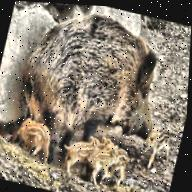boar: (4, 3, 181, 174), (2, 111, 57, 173), (136, 119, 178, 170), (58, 129, 99, 179), (87, 145, 124, 185)
